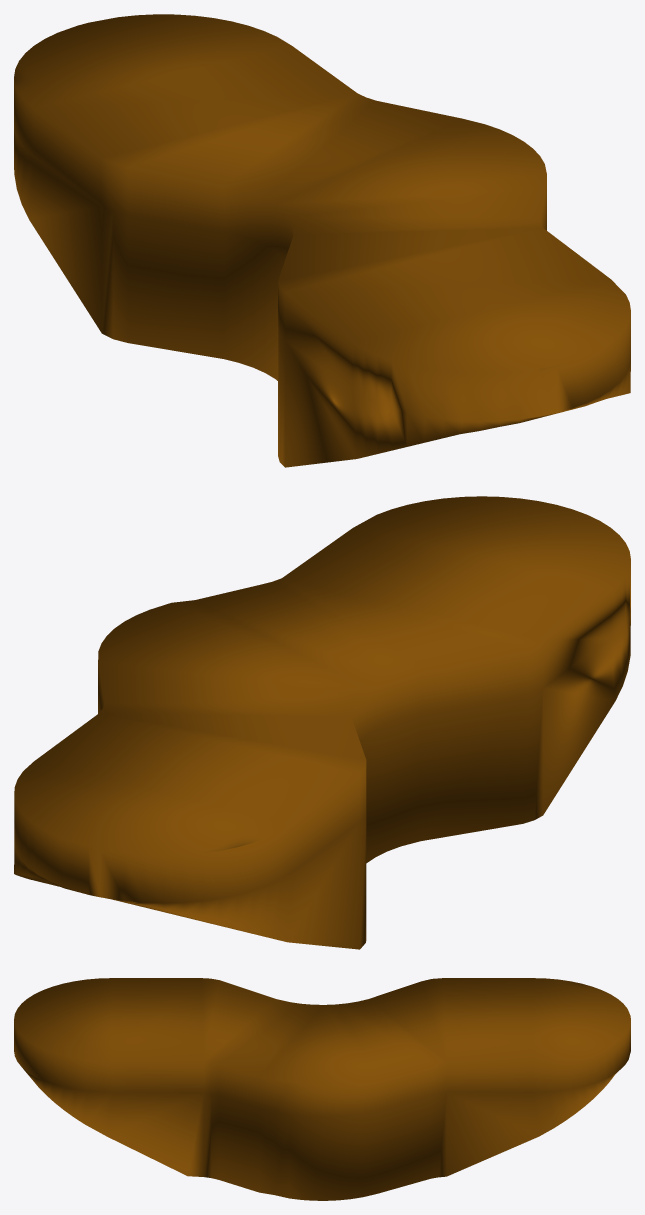
File: pelvis.dae
The picture shows the model from 3 angles, top to bottom: view 1: azimuth 30°, elevation 25°; view 2: azimuth 150°, elevation 25°; view 3: azimuth 270°, elevation 25°; orthographic projection. The views are drawn at different scales.
Visible parts, largest first — view 1: Pelvis; view 2: Pelvis; view 3: Pelvis.
Boxes of the visible parts, x1,y1,x2,y2 form: Pelvis: [14, 14, 630, 467]; Pelvis: [14, 496, 630, 949]; Pelvis: [14, 978, 630, 1200].
Bounding box in the file's own units: 0.1397 × 0.3391 × 0.071.
Materials: 1 (1 with a texture image).
